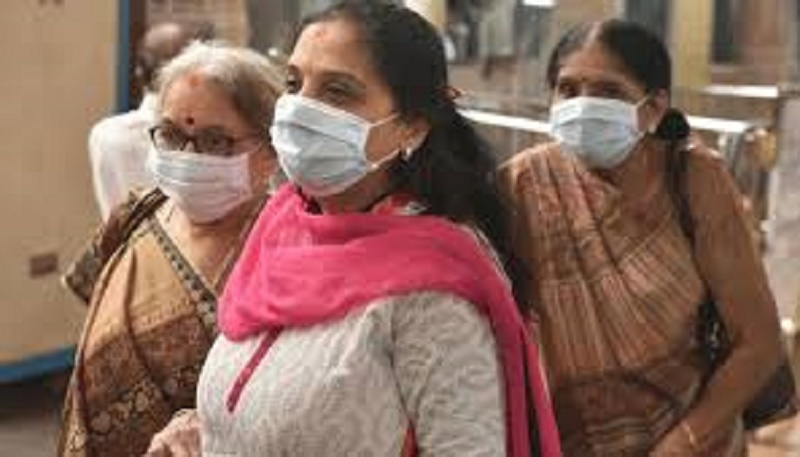with_mask: (271, 42, 384, 197), (158, 83, 257, 221), (551, 55, 647, 165)
